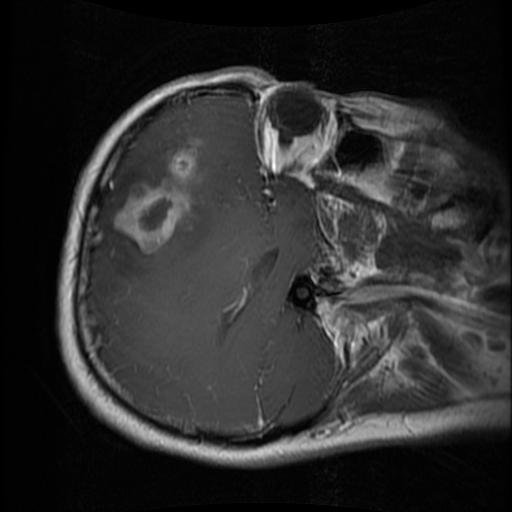glioma: (111, 139, 197, 261)
